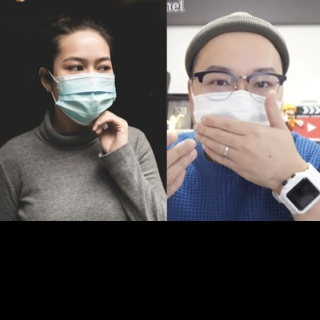with_mask: (191, 64, 285, 140), (53, 56, 116, 128)
